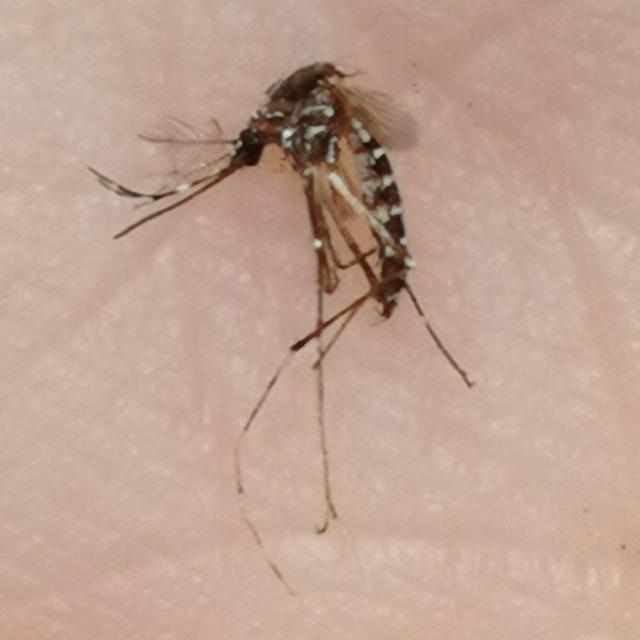albopictus: (100, 35, 503, 559)
